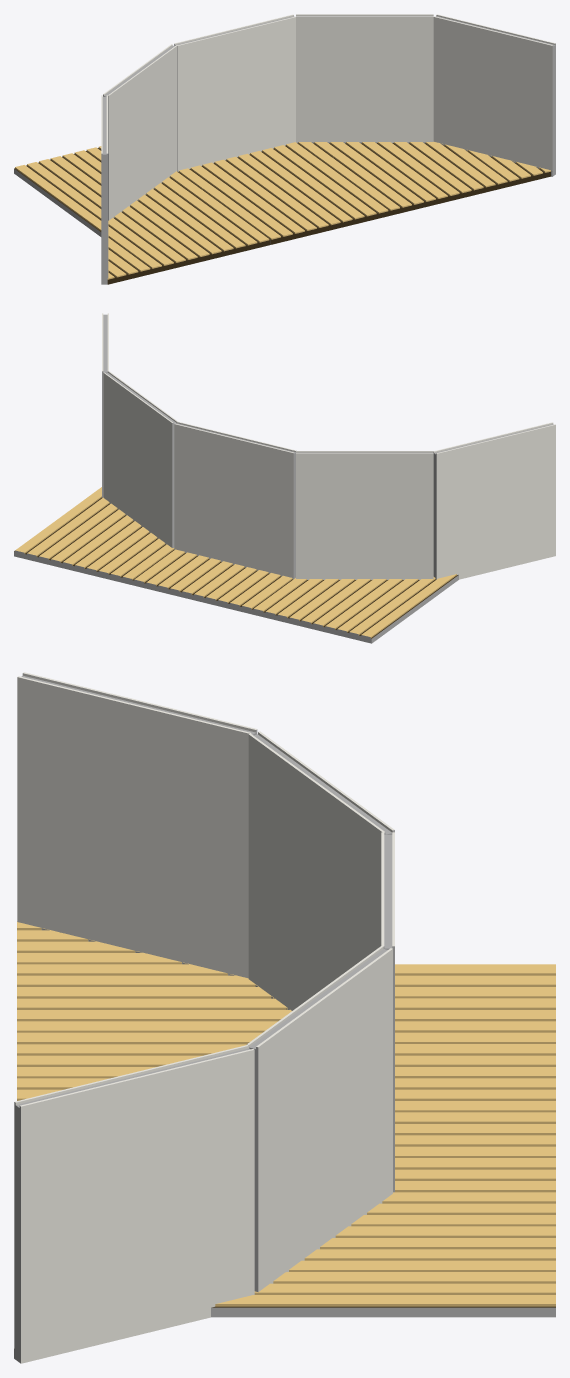
File: room2.glb
The picture shows the model from 3 angles, top to bottom: view 1: azimuth 30°, elevation 25°; view 2: azimuth 150°, elevation 25°; view 3: azimuth 270°, elevation 25°; orthographic projection. The views are drawn at different scales.
Size of the model in its own units: 38.06 by 10.5 by 20.06.
1 material, 1 textured.
